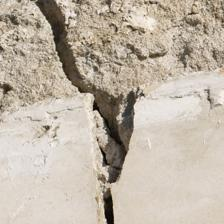Crack: (22, 18, 81, 130), (0, 65, 104, 122), (52, 19, 80, 101), (66, 89, 115, 120)
